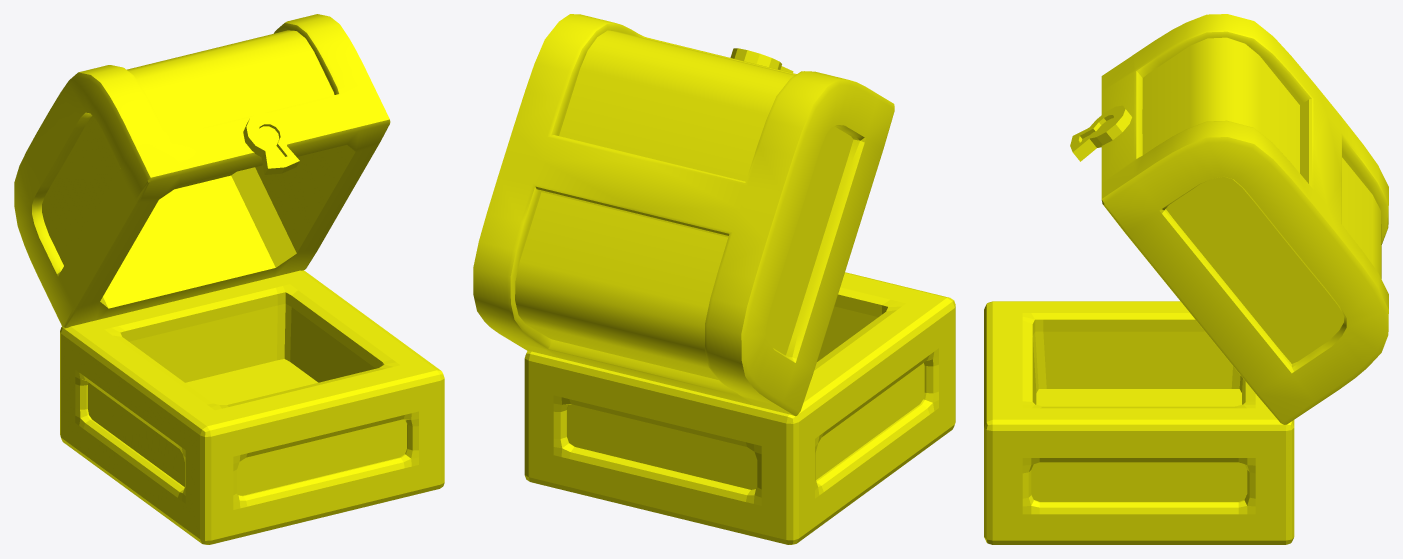
The model's file is Chest_Open.glb.
3 renders of one model, left to right at view 1: azimuth 30°, elevation 25°; view 2: azimuth 150°, elevation 25°; view 3: azimuth 270°, elevation 25°, orthographic. The views are drawn at different scales.
Parts seen in each view (by area): view 1: Chest_Open; view 2: Chest_Open; view 3: Chest_Open.
Boxes of the visible parts, x1,y1,x2,y2 form: Chest_Open: (14, 14, 444, 544); Chest_Open: (473, 14, 955, 544); Chest_Open: (984, 14, 1388, 544).
Bounding box in the file's own units: 1.84 × 2.8 × 2.51.
Materials: 1 (1 with a texture image).
